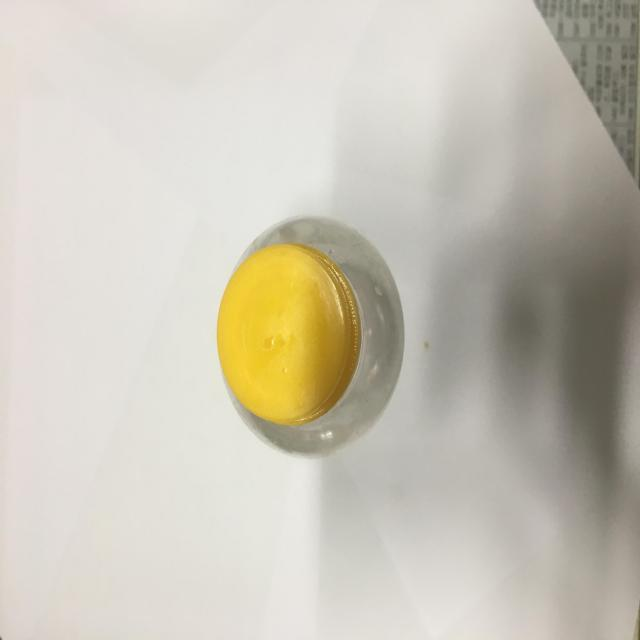bottle: (215, 210, 409, 460)
